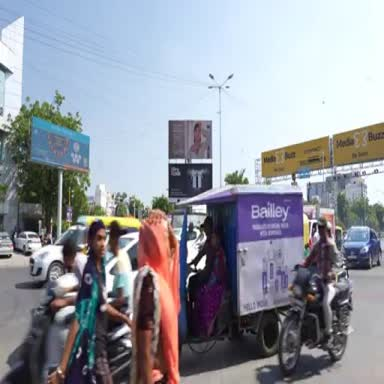Car: (30, 226, 88, 282), (342, 226, 381, 268), (120, 233, 138, 293), (15, 232, 41, 254), (0, 232, 14, 258)
